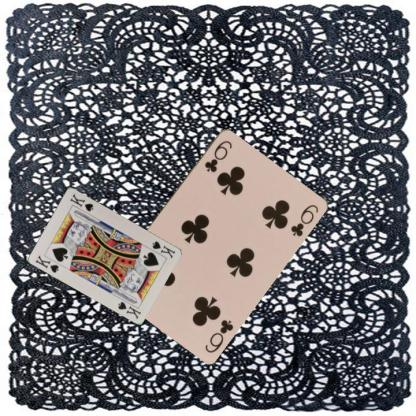6c: (202, 316, 235, 354), (202, 137, 233, 173)
Ks: (33, 252, 61, 274), (150, 238, 176, 259)
